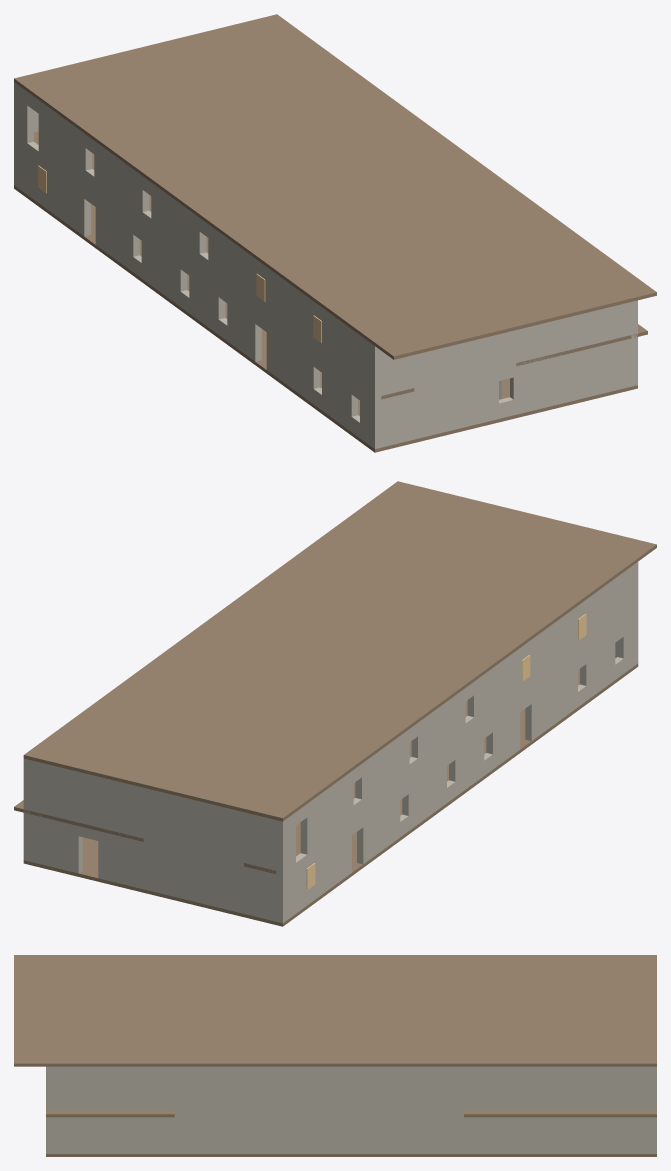
Rendered from barracks.glb.
3 renders of one model, top to bottom at view 1: azimuth 30°, elevation 25°; view 2: azimuth 150°, elevation 25°; view 3: azimuth 270°, elevation 25°, orthographic. The views are drawn at different scales.
Parts seen in each view (by area): view 1: wall_plaster_4.032, wall_plaster_4.030, floor_board_4.046, floor_board_4.056, floor_board_4.066, floor_board_4.076, floor_board_4.044, floor_board_4.037, floor_board_4.038, floor_board_4.039, floor_board_4.041, floor_board_4.043 (+69 smaller); view 2: wall_plaster_4.029, wall_plaster_4.028, wall_plaster_4.027, wall_plaster_4.026, floor_board_4.037, floor_board_4.057, floor_board_4.067, floor_board_4.047, floor_board_4.044, floor_board_4.038, floor_board_4.039, floor_board_4.040 (+71 smaller); view 3: wall_plaster_4.011, wall_plaster_4.025, wall_plaster_4.017, wall_plaster_4.019, wall_plaster_4.013, wall_plaster_4.015, wall_plaster_4.021, wall_plaster_4.023, wall_plaster_4.014, wall_plaster_4.016, wall_plaster_4.018, wall_plaster_4.020 (+50 smaller).
Part boxes in pixels (x1,y1,x2,y2): wall_plaster_4.032: (523,349,588,412); wall_plaster_4.030: (371,381,440,448); floor_board_4.046: (356,312,459,359); floor_board_4.056: (422,296,525,343); floor_board_4.066: (487,280,591,327); floor_board_4.076: (553,264,656,311); floor_board_4.044: (280,257,383,303); floor_board_4.037: (14,62,117,109); floor_board_4.038: (52,90,155,136); floor_board_4.039: (90,118,193,164); floor_board_4.041: (166,173,269,220); floor_board_4.043: (242,229,344,276); wall_plaster_4.029: (153,790,217,856); wall_plaster_4.028: (153,841,217,907); wall_plaster_4.027: (218,806,285,871); wall_plaster_4.026: (218,856,285,922); floor_board_4.037: (218,775,320,821); floor_board_4.057: (88,743,190,789); floor_board_4.067: (23,727,125,774); floor_board_4.047: (153,759,254,805); floor_board_4.044: (480,583,582,629); floor_board_4.038: (256,748,357,793); floor_board_4.039: (293,720,394,766); floor_board_4.040: (331,693,432,739); wall_plaster_4.011: (528,1066,592,1110); wall_plaster_4.025: (78,1066,142,1110); wall_plaster_4.017: (335,1066,399,1110); wall_plaster_4.019: (271,1066,335,1110); wall_plaster_4.013: (464,1066,528,1110); wall_plaster_4.015: (399,1066,463,1110); wall_plaster_4.021: (207,1066,271,1110); wall_plaster_4.023: (142,1066,206,1110); wall_plaster_4.014: (399,1110,463,1153); wall_plaster_4.016: (335,1110,399,1153); wall_plaster_4.018: (271,1110,335,1153); wall_plaster_4.020: (207,1110,271,1153).
Size of the model in its own units: 16.63 by 6.4 by 40.
